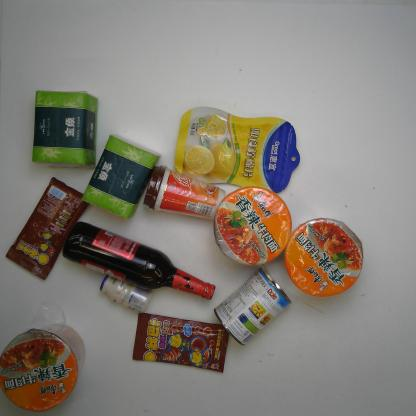Alcohol: (60, 220, 218, 302)
Candy: (4, 174, 94, 281), (130, 308, 233, 374)
Canned Food: (212, 264, 293, 350)
Dried Fruit: (169, 103, 302, 198)
Instant Drink: (141, 161, 230, 224)
Instant Noodles: (1, 320, 86, 413), (282, 214, 368, 301), (211, 184, 295, 268)
Milk: (98, 271, 153, 316)
Tissue: (78, 131, 163, 222), (28, 86, 99, 171)
